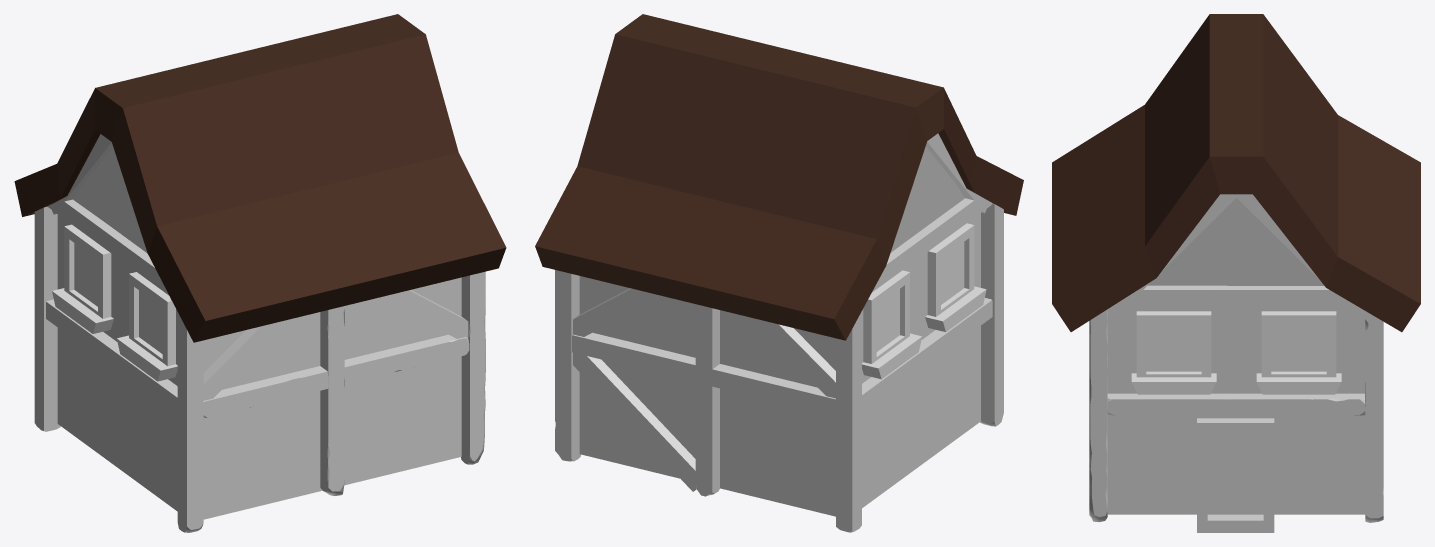
Rendered from House2.fbx.
3 views of the same model, side by side, from view 1: azimuth 30°, elevation 25°; view 2: azimuth 150°, elevation 25°; view 3: azimuth 270°, elevation 25° (orthographic). The views are drawn at different scales.
Visible parts, largest first — view 1: Cube, Cube.015, Cube.002, Cube.003, Cube.001; view 2: Cube, Cube.015, Cube.002, Cube.003, Cube.001; view 3: Cube, Cube.015, Cube.002, Cube.003, Cube.001.
Part boxes in pixels (bbox=[...]): Cube: bbox=[14, 14, 506, 519]; Cube.015: bbox=[34, 199, 485, 532]; Cube.002: bbox=[52, 224, 177, 381]; Cube.003: bbox=[74, 243, 162, 353]; Cube.001: bbox=[50, 134, 171, 300]; Cube: bbox=[535, 14, 1023, 516]; Cube.015: bbox=[555, 196, 1003, 532]; Cube.002: bbox=[862, 223, 986, 379]; Cube.003: bbox=[876, 242, 964, 351]; Cube.001: bbox=[925, 133, 989, 213]; Cube: bbox=[1052, 14, 1420, 514]; Cube.015: bbox=[1089, 285, 1383, 532]; Cube.002: bbox=[1131, 311, 1341, 394]; Cube.003: bbox=[1146, 324, 1326, 371]; Cube.001: bbox=[1118, 194, 1355, 309].
Size of the model in its own units: 1603 by 1912 by 1687.
